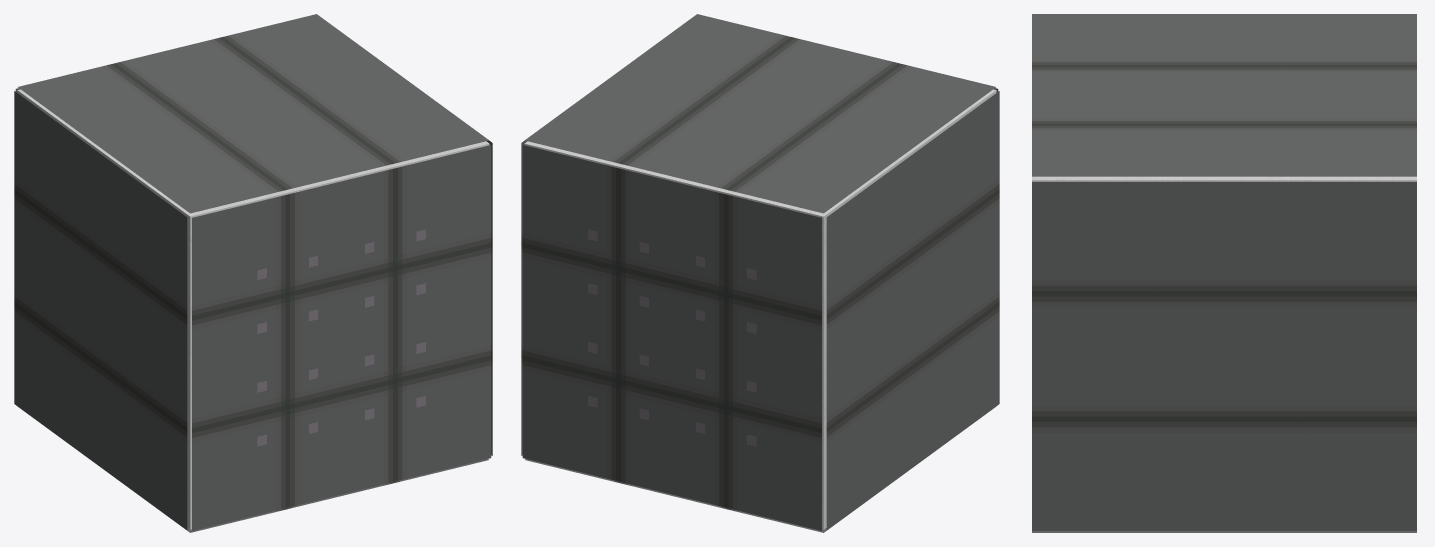
File: drivebox.obj
The picture shows the model from 3 angles, left to right: view 1: azimuth 30°, elevation 25°; view 2: azimuth 150°, elevation 25°; view 3: azimuth 270°, elevation 25°; orthographic projection. The views are drawn at different scales.
Parts seen in each view (by area): view 1: Drivebox2, Drivebox5, Drivebox6, Drivebox1, Drivebox7, Drivebox4; view 2: Drivebox3, Drivebox5, Drivebox6, Drivebox1, Drivebox7, Drivebox4; view 3: Drivebox4, Drivebox6, Drivebox1, Drivebox7.
Part boxes in pixels (x1,y1,x2,y2): Drivebox2: (192, 145, 491, 530); Drivebox5: (14, 91, 187, 530); Drivebox6: (18, 14, 489, 213); Drivebox1: (17, 89, 489, 529); Drivebox7: (18, 407, 488, 532); Drivebox4: (486, 140, 492, 455); Drivebox3: (522, 145, 821, 530); Drivebox5: (826, 91, 999, 530); Drivebox6: (524, 14, 995, 213); Drivebox1: (524, 89, 996, 529); Drivebox7: (525, 407, 995, 532); Drivebox4: (521, 140, 527, 455); Drivebox4: (1032, 182, 1416, 530); Drivebox6: (1032, 14, 1416, 176); Drivebox1: (1032, 176, 1416, 181); Drivebox7: (1032, 531, 1416, 532).
Bounding box in the file's own units: 2.04 × 2.04 × 2.04.
Materials: 4 (4 with a texture image).
